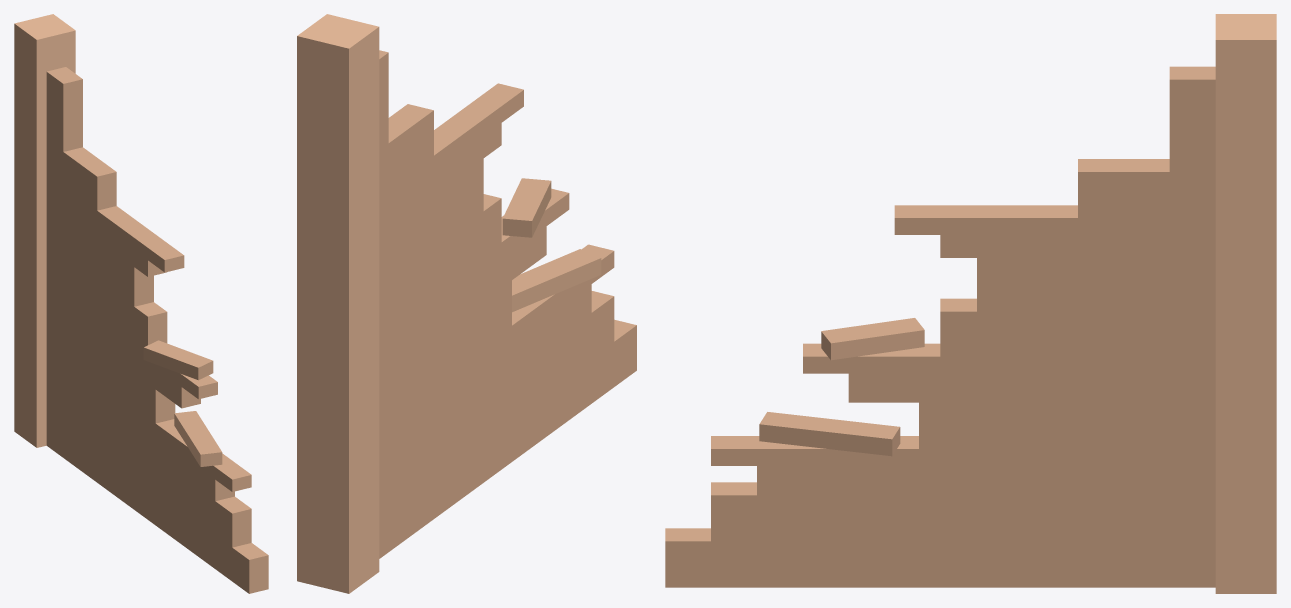
The model's file is wallWoodBroken.glb.
3 renders of one model, left to right at view 1: azimuth 30°, elevation 25°; view 2: azimuth 150°, elevation 25°; view 3: azimuth 270°, elevation 25°, orthographic. The views are drawn at different scales.
Parts seen in each view (by area): view 1: wallWoodBroken; view 2: wallWoodBroken; view 3: wallWoodBroken.
Part boxes in pixels (x1=…): wallWoodBroken: x1=14, y1=14, x2=268, y2=593; wallWoodBroken: x1=297, y1=14, x2=636, y2=593; wallWoodBroken: x1=665, y1=14, x2=1276, y2=593.
Size of the model in its own units: 0.1129 by 1 by 1.
